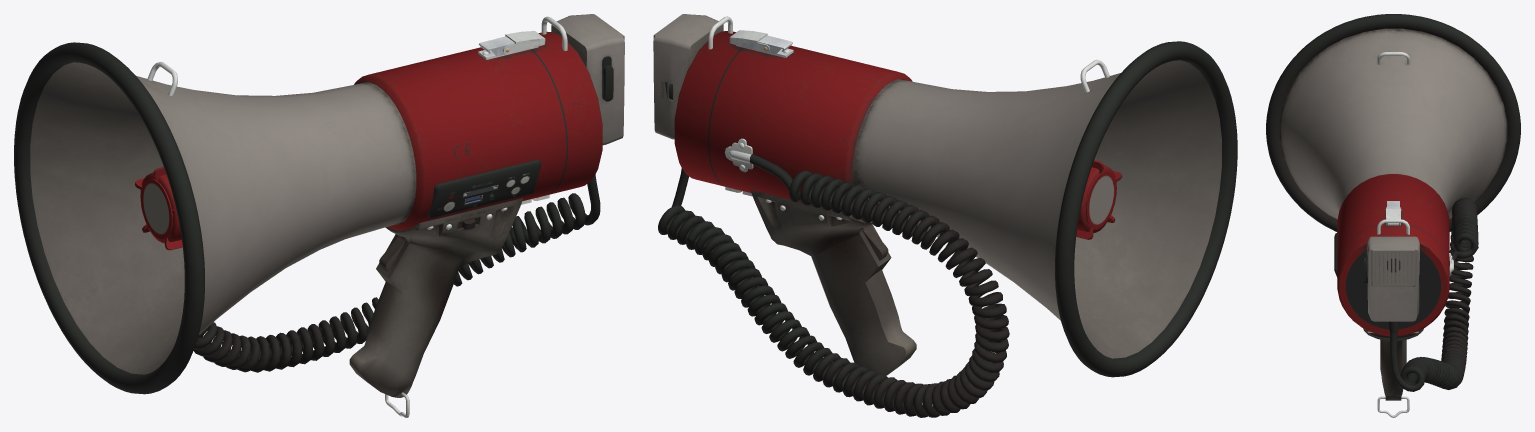
The model's file is megaphone.glb.
3 views of the same model, side by side, from view 1: azimuth 30°, elevation 25°; view 2: azimuth 150°, elevation 25°; view 3: azimuth 270°, elevation 25° (orthographic). The views are drawn at different scales.
Visible parts, largest first — view 1: Megaphone_01; view 2: Megaphone_01; view 3: Megaphone_01.
Boxes of the visible parts, left/top/right/bottom form: Megaphone_01: left=14, top=14, right=624, bottom=417; Megaphone_01: left=653, top=14, right=1237, bottom=417; Megaphone_01: left=1266, top=14, right=1520, bottom=417.
Bounding box in the file's own units: 3.11 × 2.52 × 1.92.
1 material, 1 textured.
